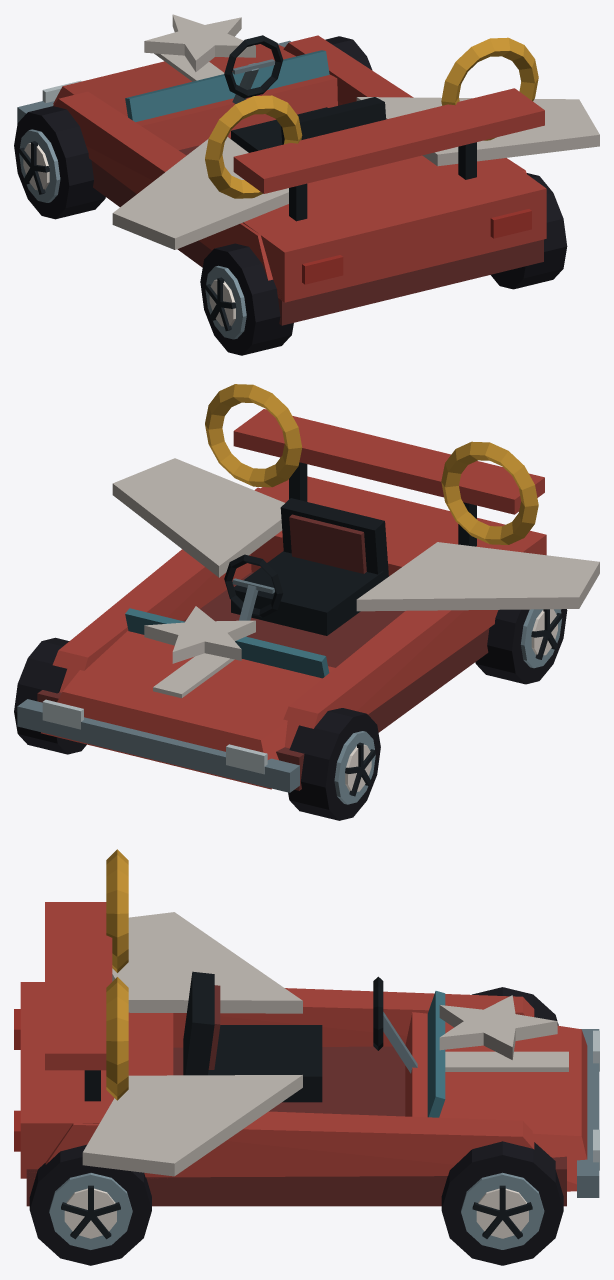
Rendered from kart.glb.
The picture shows the model from 3 angles, top to bottom: view 1: azimuth 30°, elevation 25°; view 2: azimuth 150°, elevation 25°; view 3: azimuth 270°, elevation 25°; orthographic projection. The views are drawn at different scales.
Visible parts, largest first — view 1: identity-sports-car-sports-car-road-car-body, identity-sports-car-motif-wings, wheel-front-left, wheel-rear-left, identity-sports-car-motif-ring, identity-sports-car-driver-cockpit, identity-sports-car-motif-star, wheel-rear-right, wheel-front-right; view 2: identity-sports-car-sports-car-road-car-body, identity-sports-car-motif-wings, identity-sports-car-driver-cockpit, identity-sports-car-motif-ring, wheel-front-left, wheel-rear-left, identity-sports-car-motif-star, wheel-front-right; view 3: identity-sports-car-sports-car-road-car-body, identity-sports-car-motif-wings, wheel-front-right, identity-sports-car-driver-cockpit, wheel-rear-right, identity-sports-car-motif-ring, identity-sports-car-motif-star, wheel-front-left.
Boxes of the visible parts, x1,y1,x2,y2 form: identity-sports-car-sports-car-road-car-body: [17, 35, 546, 325]; identity-sports-car-motif-wings: [112, 97, 599, 249]; wheel-front-left: [14, 106, 105, 219]; wheel-rear-left: [200, 243, 293, 355]; identity-sports-car-motif-ring: [205, 37, 538, 198]; identity-sports-car-driver-cockpit: [224, 35, 385, 152]; identity-sports-car-motif-star: [144, 14, 255, 71]; wheel-rear-right: [491, 173, 567, 289]; wheel-front-right: [325, 36, 372, 70]; identity-sports-car-sports-car-road-car-body: [17, 409, 546, 792]; identity-sports-car-motif-wings: [112, 458, 599, 611]; identity-sports-car-driver-cockpit: [224, 498, 388, 635]; identity-sports-car-motif-ring: [205, 384, 538, 544]; wheel-front-left: [288, 708, 380, 820]; wheel-rear-left: [475, 609, 567, 684]; identity-sports-car-motif-star: [144, 606, 255, 663]; wheel-front-right: [14, 637, 86, 754]; identity-sports-car-sports-car-road-car-body: [14, 902, 599, 1206]; identity-sports-car-motif-wings: [82, 912, 302, 1176]; wheel-front-right: [441, 1141, 563, 1265]; identity-sports-car-driver-cockpit: [183, 971, 417, 1102]; wheel-rear-right: [29, 1144, 151, 1265]; identity-sports-car-motif-ring: [106, 849, 128, 1100]; identity-sports-car-motif-star: [439, 995, 557, 1059]; wheel-front-left: [472, 987, 558, 1025].
Size of the model in its own units: 2.92 by 1.42 by 2.88.
